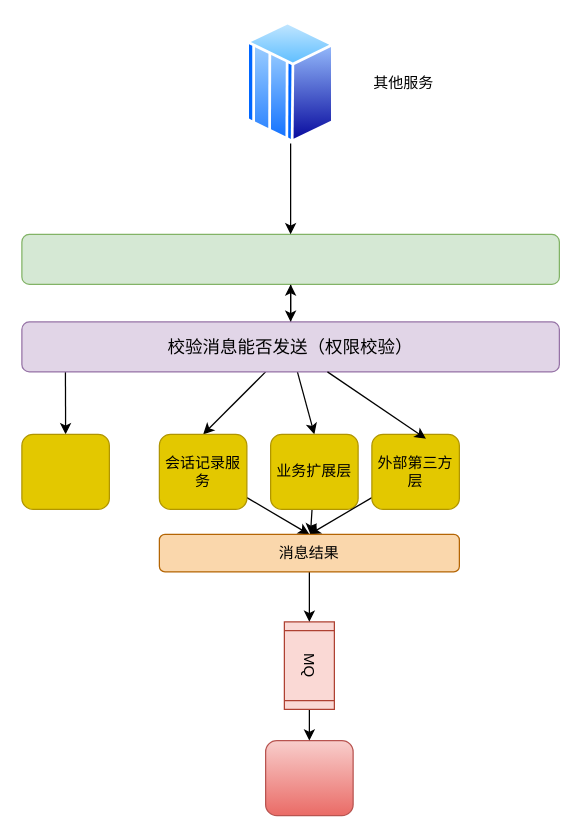
This 581x838 diagram has some shape labels left out. The centre of each missing label's shape, as x and y in pixels:
"发送至存储层" goes at (x=65, y=471).
"发送至推送层" goes at (x=308, y=777).
"序列化消息" goes at (x=290, y=258).
